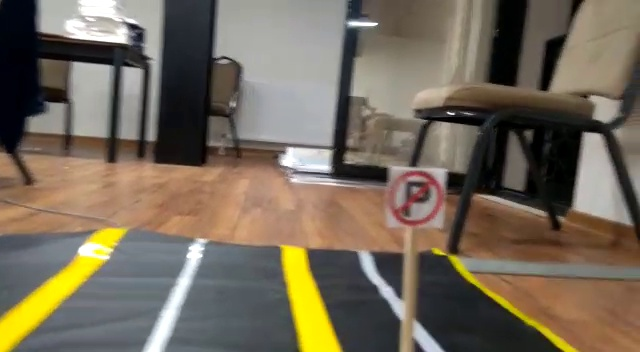park_yapilmaz: (387, 163, 446, 229)
